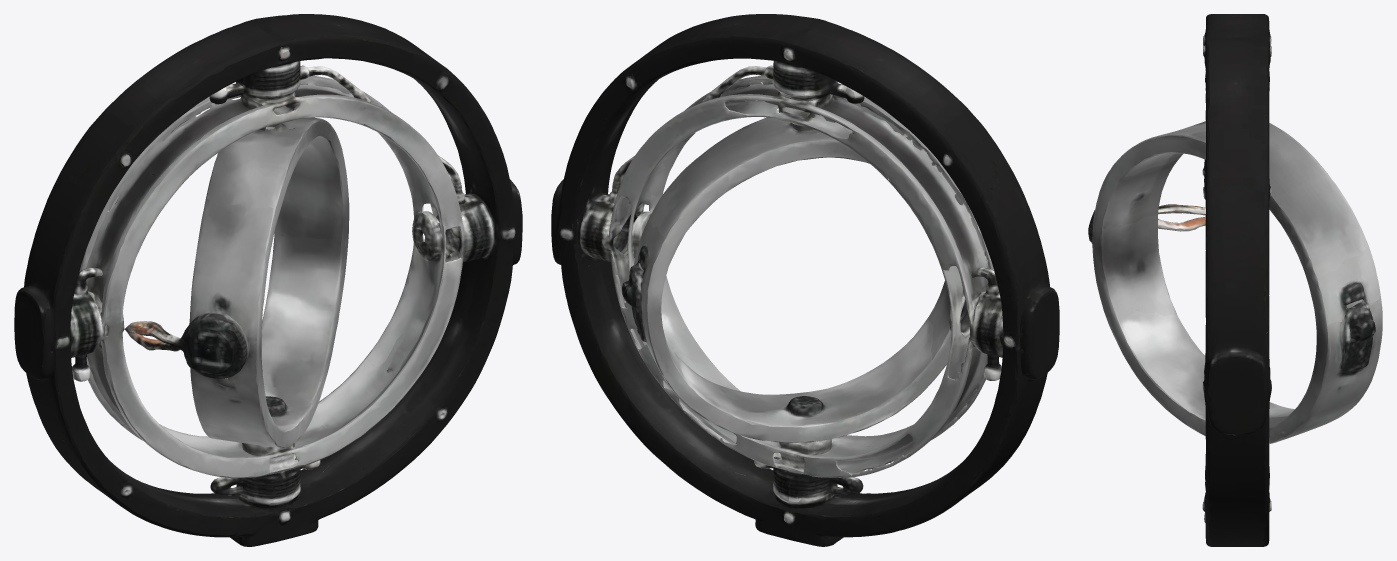
3 views of the same model, side by side, from view 1: azimuth 30°, elevation 25°; view 2: azimuth 150°, elevation 25°; view 3: azimuth 270°, elevation 25° (orthographic).
Parts seen in each view (by area): view 1: geometry_0; view 2: geometry_0; view 3: geometry_0.
Part boxes in pixels (x1=…): geometry_0: x1=14, y1=14, x2=522, y2=546; geometry_0: x1=551, y1=14, x2=1059, y2=546; geometry_0: x1=1088, y1=14, x2=1382, y2=546.
Bounding box in the file's own units: 0.3 × 0.2977 × 0.1625.
Materials: 1 (1 with a texture image).
